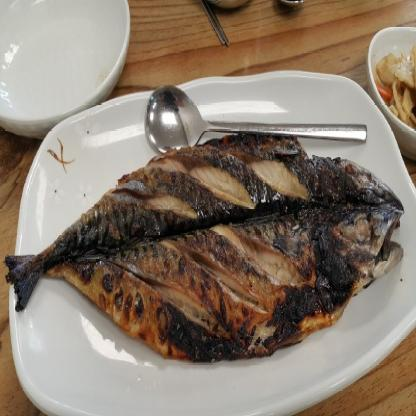Peixe: (0, 134, 415, 371)
